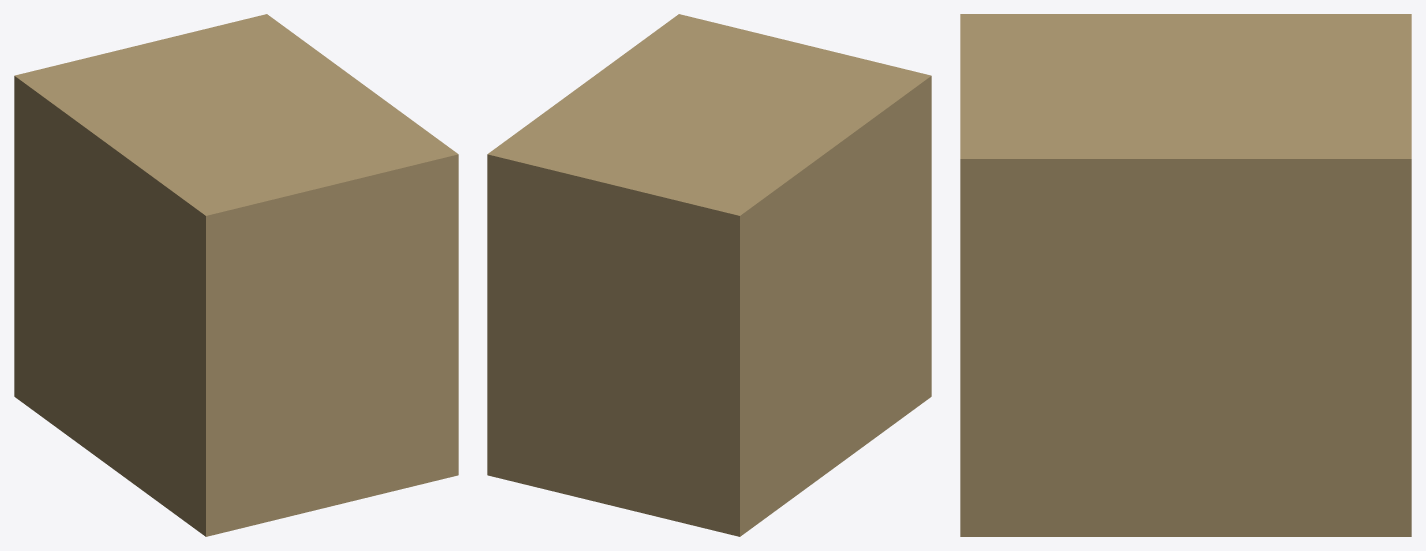
3 views of the same model, side by side, from view 1: azimuth 30°, elevation 25°; view 2: azimuth 150°, elevation 25°; view 3: azimuth 270°, elevation 25° (orthographic). The views are drawn at different scales.
Visible parts, largest first — view 1: mesh94049, mesh94047, mesh94046; view 2: mesh94048, mesh94047, mesh94046; view 3: mesh94045, mesh94046.
Boxes of the visible parts, bbox=[...] form: mesh94049: bbox=[206, 154, 458, 536]; mesh94047: bbox=[14, 76, 205, 536]; mesh94046: bbox=[15, 14, 457, 215]; mesh94048: bbox=[487, 154, 739, 536]; mesh94047: bbox=[740, 76, 931, 536]; mesh94046: bbox=[488, 14, 930, 215]; mesh94045: bbox=[960, 159, 1411, 536]; mesh94046: bbox=[960, 14, 1411, 158].
Bounding box in the file's own units: 0.001 × 0.00121 × 0.00131.
